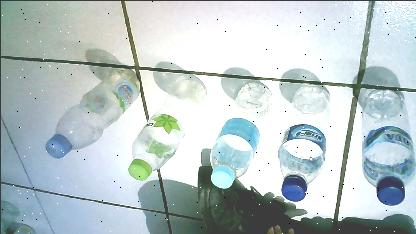Plastic Bottle: (42, 58, 140, 158), (127, 68, 206, 184), (356, 81, 416, 209), (208, 75, 272, 189), (275, 81, 331, 207)
